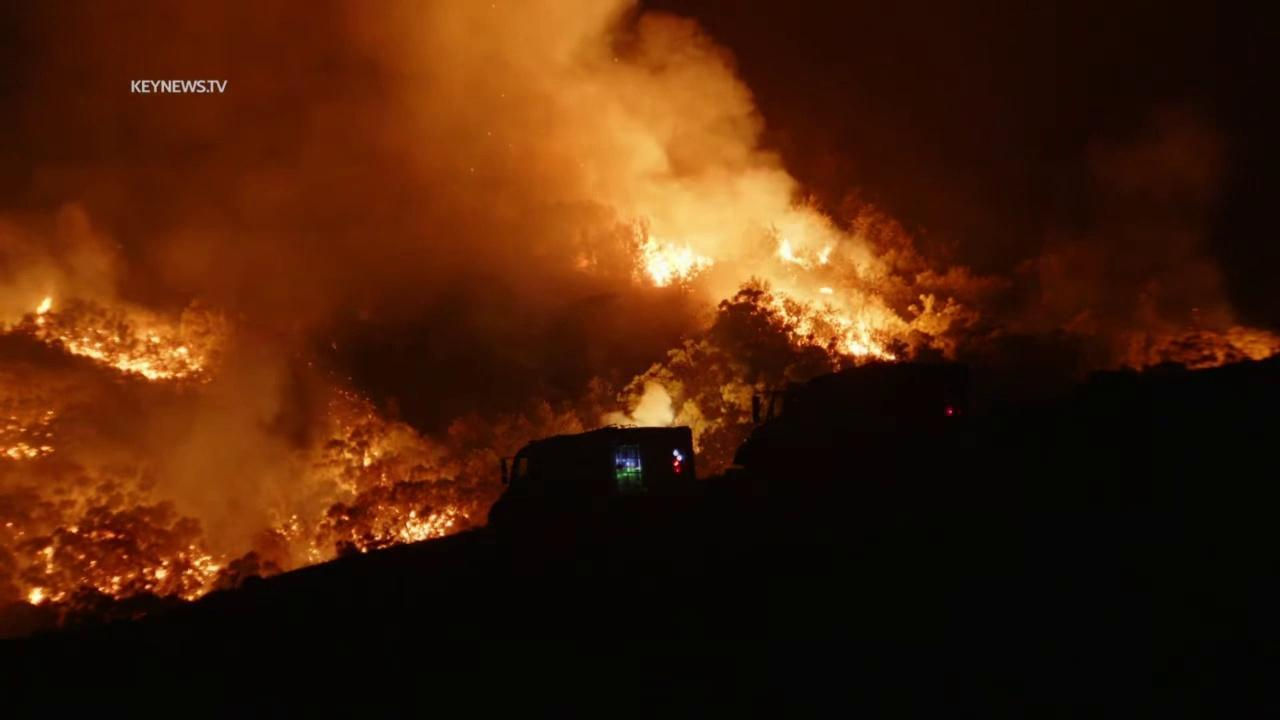fire: (33, 293, 209, 383), (84, 528, 234, 604), (758, 284, 901, 363), (351, 499, 474, 555), (631, 227, 716, 290), (0, 407, 59, 464), (770, 233, 839, 272), (23, 583, 49, 611), (305, 538, 328, 567), (36, 544, 56, 575), (361, 449, 374, 469)
smoke: (1, 0, 1241, 642)
